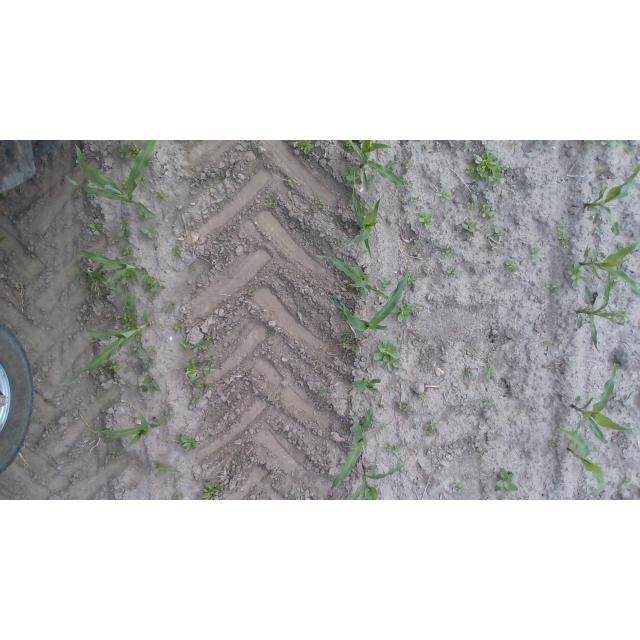Maize: (49, 321, 151, 393), (64, 141, 156, 219), (567, 363, 637, 445), (329, 271, 411, 336), (583, 160, 640, 241), (575, 240, 639, 311), (325, 407, 377, 490), (79, 250, 167, 298), (338, 142, 415, 193), (317, 254, 392, 305), (84, 414, 176, 455), (577, 287, 634, 352), (344, 191, 386, 262), (564, 449, 611, 496), (344, 463, 405, 499)
Weeds: (466, 151, 506, 190), (375, 337, 404, 372), (490, 465, 520, 497), (112, 141, 142, 161), (340, 333, 363, 358), (185, 359, 212, 380), (567, 261, 586, 289), (200, 479, 225, 500), (177, 434, 203, 454), (151, 459, 178, 478), (416, 209, 438, 232), (394, 303, 415, 326), (137, 375, 163, 393), (459, 219, 480, 241), (181, 339, 209, 355), (293, 141, 317, 157), (545, 281, 566, 298), (431, 190, 456, 204), (558, 220, 569, 251), (503, 256, 520, 274), (148, 280, 165, 298), (155, 190, 174, 205), (492, 227, 508, 243), (380, 446, 405, 456), (88, 221, 105, 235), (141, 227, 159, 240), (480, 203, 494, 219), (117, 224, 131, 240), (380, 274, 391, 294), (464, 199, 479, 213), (485, 364, 497, 381), (123, 244, 135, 261), (169, 322, 185, 334), (440, 249, 457, 260), (403, 272, 415, 287), (171, 245, 181, 262), (530, 246, 543, 259), (427, 422, 440, 435), (168, 300, 181, 313), (148, 346, 162, 357), (132, 341, 141, 357), (590, 224, 600, 238), (318, 388, 330, 399), (454, 482, 467, 492), (397, 403, 410, 413), (316, 197, 326, 209), (418, 396, 431, 405), (277, 428, 288, 438), (267, 329, 279, 338), (380, 423, 388, 436), (277, 393, 287, 403), (235, 453, 246, 462), (410, 197, 419, 207), (109, 361, 119, 370), (243, 370, 253, 379), (448, 268, 459, 276), (482, 401, 494, 408), (220, 236, 230, 244), (225, 195, 235, 203), (214, 206, 224, 214), (269, 202, 280, 209), (288, 180, 295, 189), (191, 268, 198, 276), (249, 288, 256, 296)
